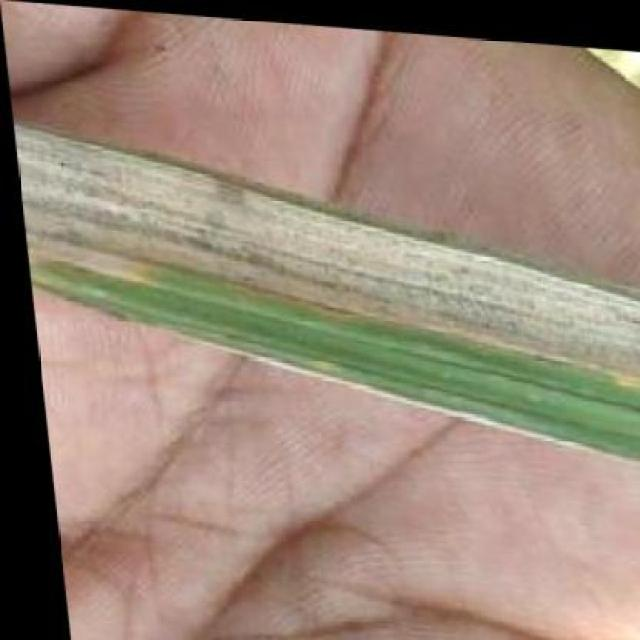Brown_Spot: (103, 185, 640, 366)
